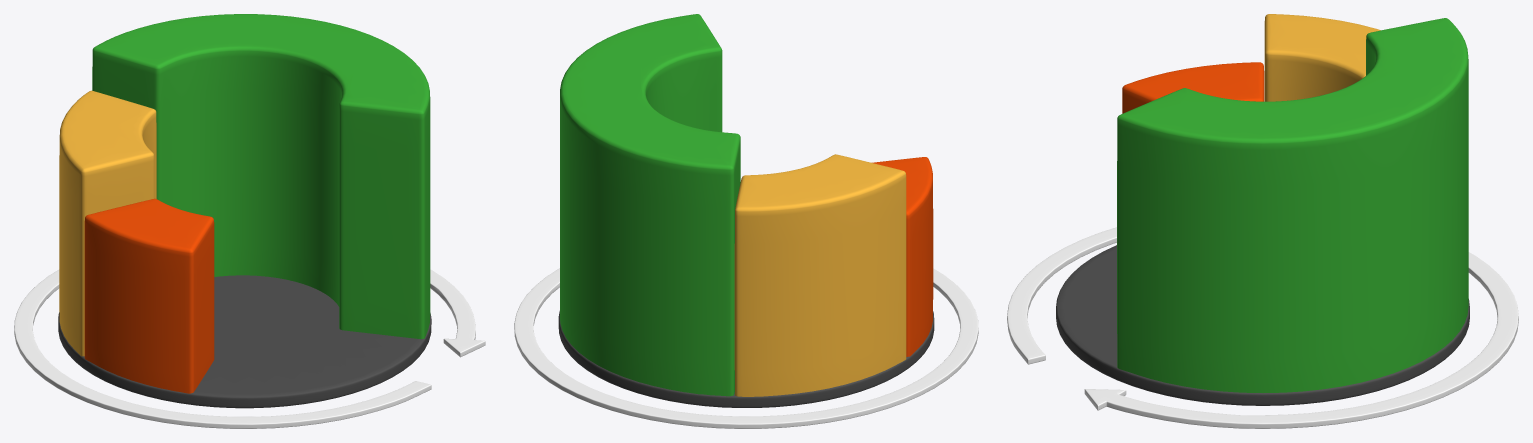
The model's file is pie_circle.gltf.
The picture shows the model from 3 angles, left to right: view 1: azimuth 30°, elevation 25°; view 2: azimuth 150°, elevation 25°; view 3: azimuth 270°, elevation 25°; orthographic projection. The views are drawn at different scales.
Parts seen in each view (by area): view 1: Cylinder.012; view 2: Cylinder.012; view 3: Cylinder.012.
Part boxes in pixels (x1,y1,x2,y2): Cylinder.012: [14, 14, 485, 428]; Cylinder.012: [514, 14, 978, 428]; Cylinder.012: [1007, 14, 1518, 428].
Size of the model in its own units: 3.02 by 1.74 by 3.02.
